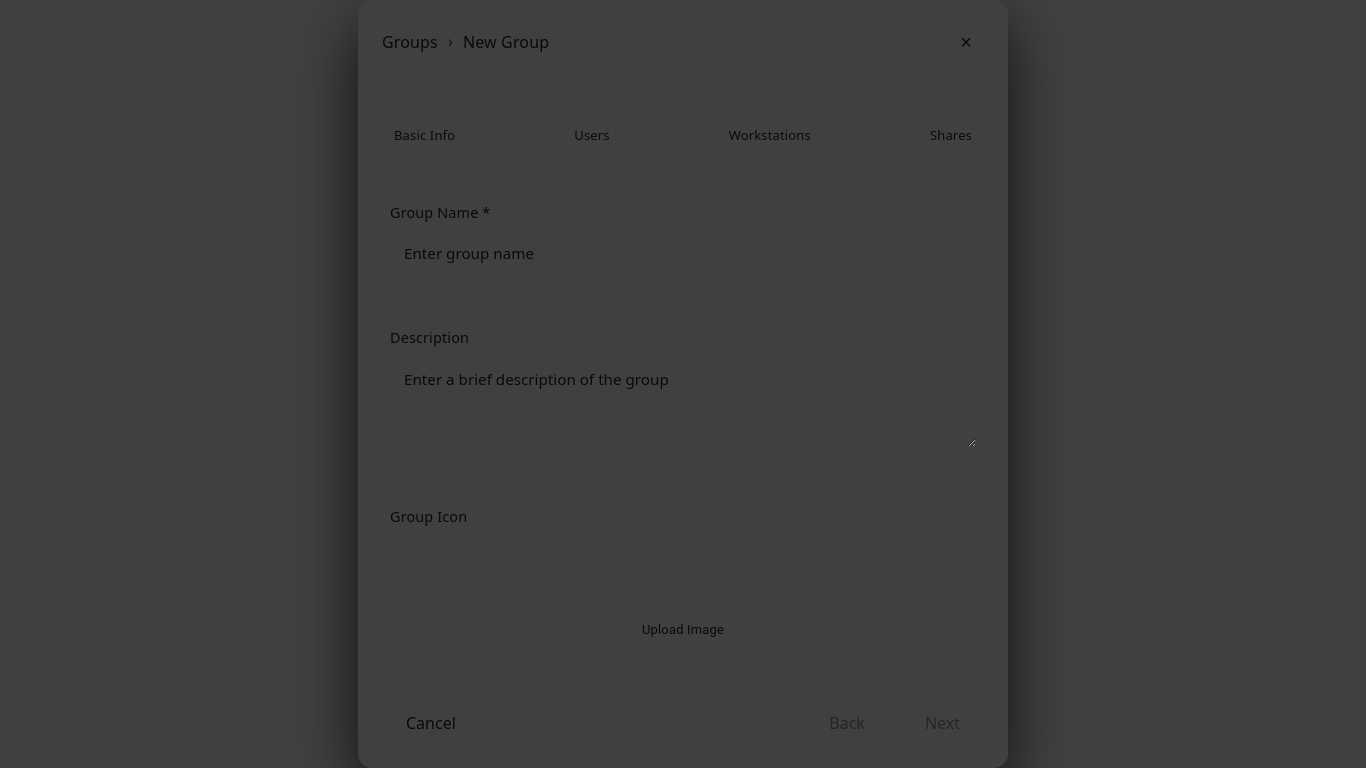
Test: GroupsModal Component › Step Navigation › navigates back to previous step
Type "Test Group" into the field with placeholder "Enter group name" at [683, 253], box 390,231 -> 976,275
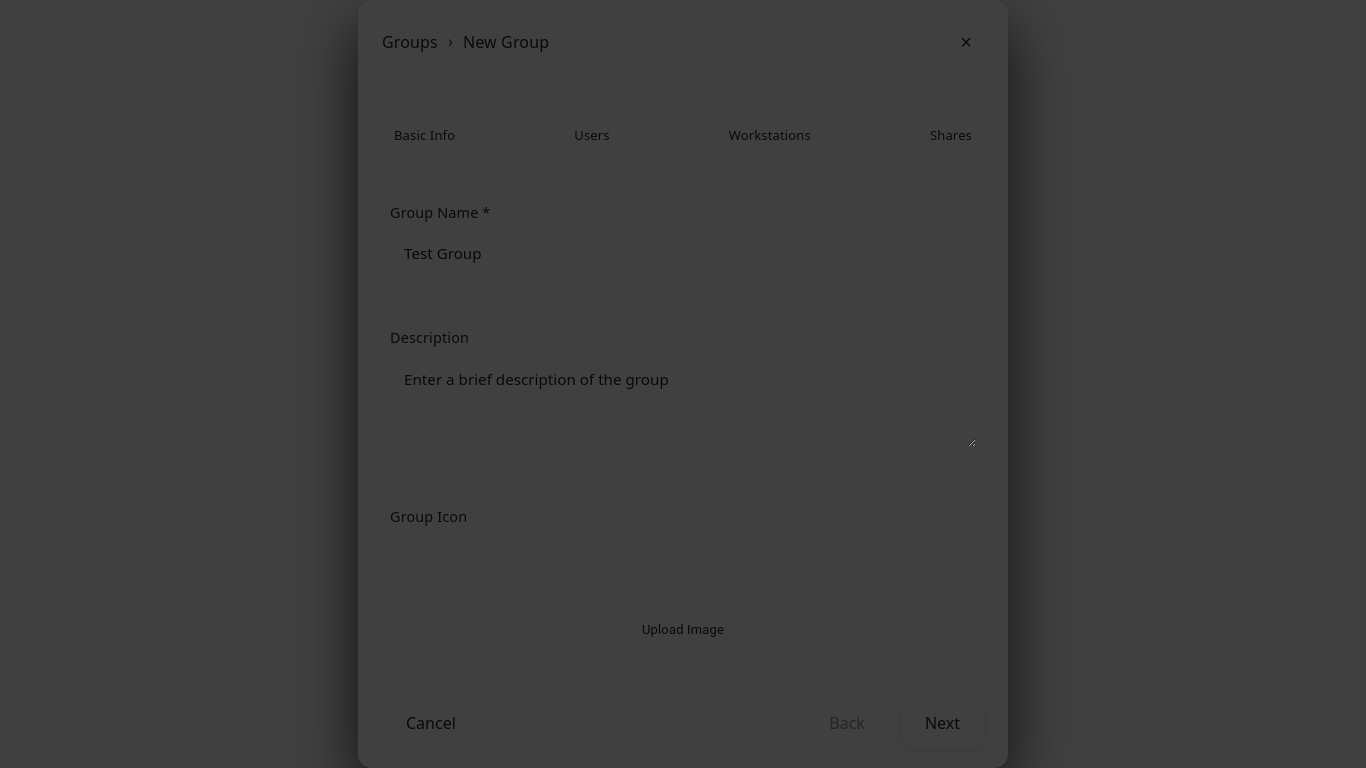
Click the button "Next" at [942, 723], box 901,698 -> 984,748
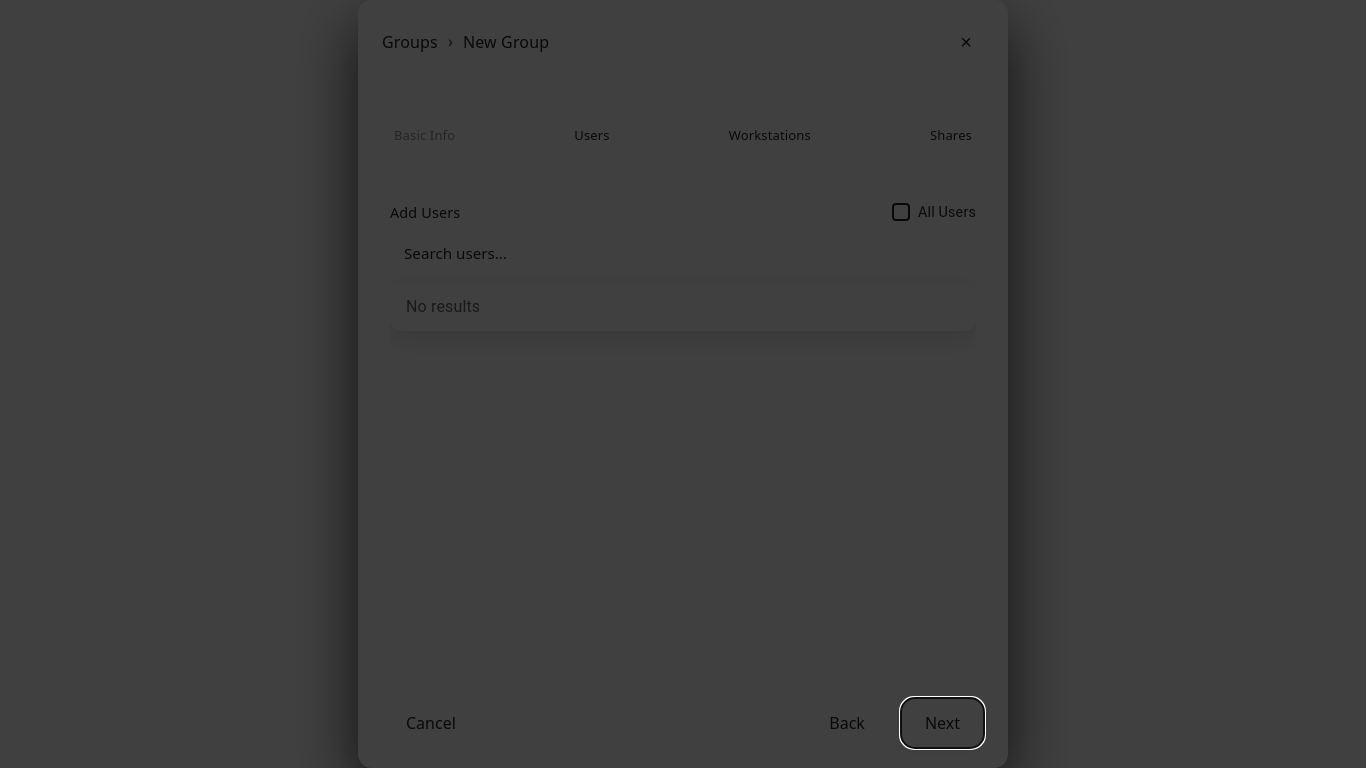
Click the button "Back" at [847, 723], box 805,698 -> 889,748
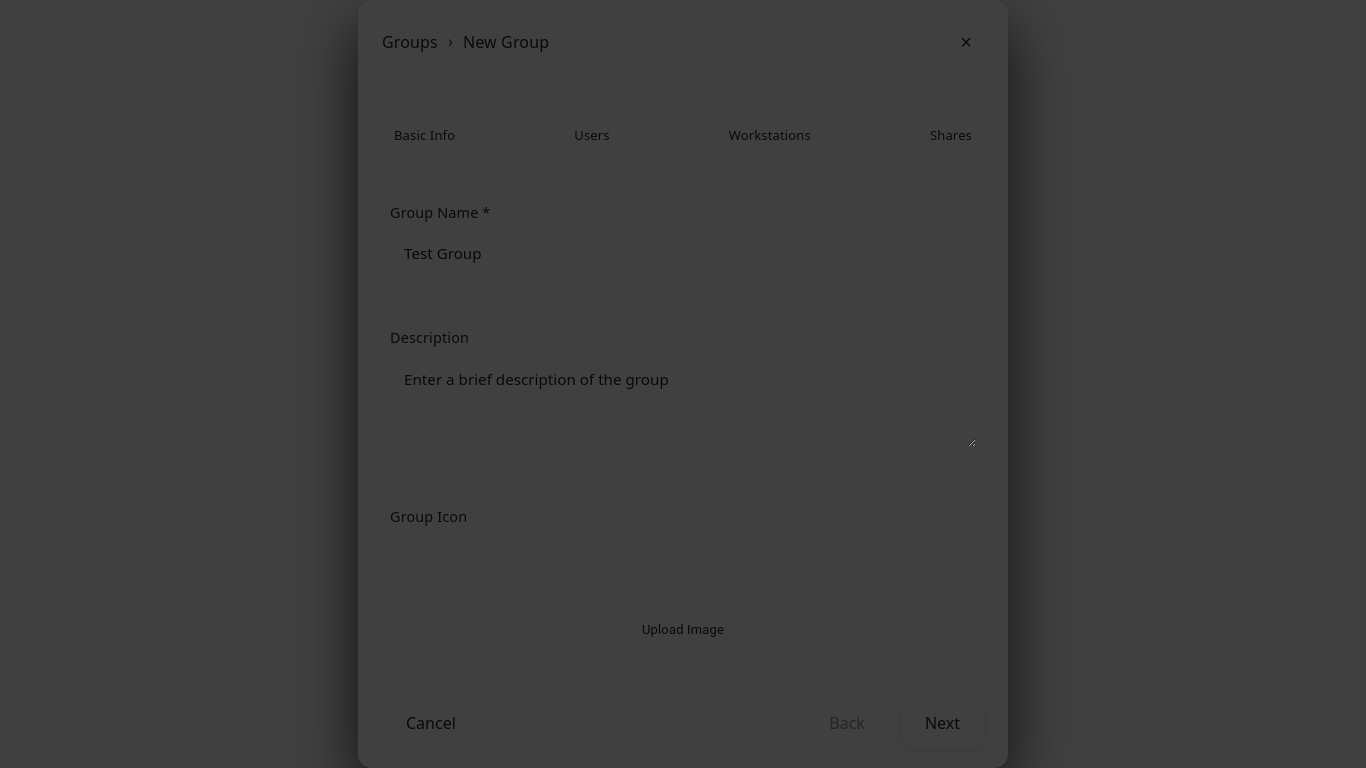
expect the field with placeholder "Enter group name" is shown: met, box 390,231 -> 976,275
